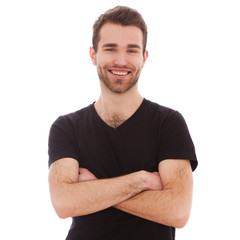young: (87, 4, 155, 104)
